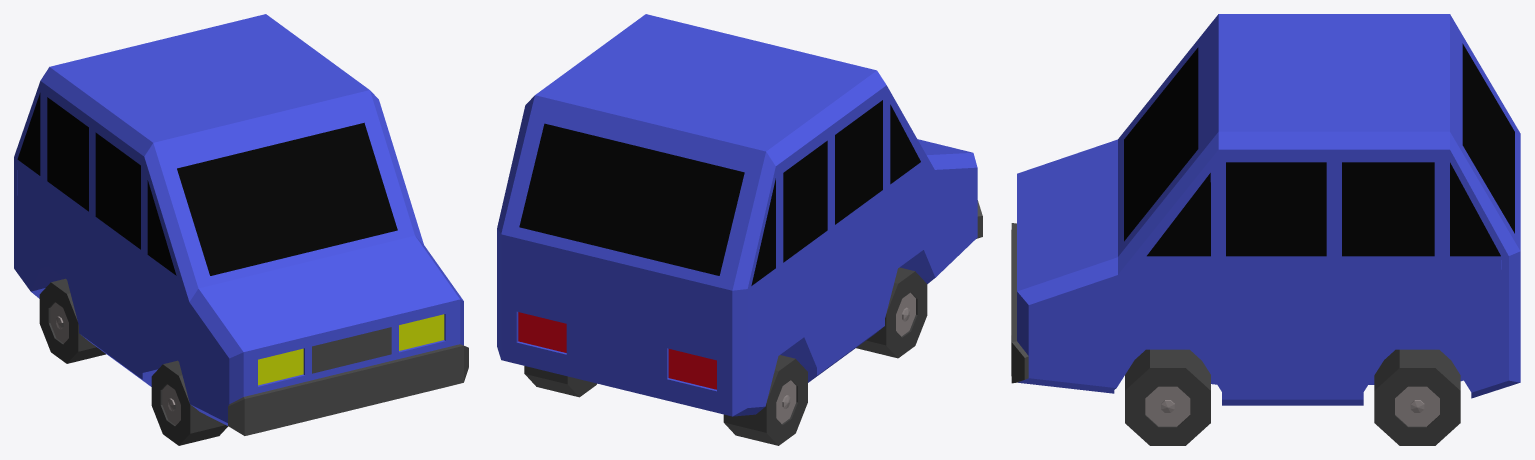
File: Car.fbx
3 renders of one model, left to right at view 1: azimuth 30°, elevation 25°; view 2: azimuth 150°, elevation 25°; view 3: azimuth 270°, elevation 25°, orthographic. The views are drawn at different scales.
Parts seen in each view (by area): view 1: Car, WheelsFront, WheelsBack; view 2: Car, WheelsBack, WheelsFront; view 3: Car, WheelsBack, WheelsFront.
Part boxes in pixels (x1,y1,x2,y2): Car: [14, 14, 468, 435]; WheelsFront: [151, 360, 227, 445]; WheelsBack: [39, 278, 105, 363]; Car: [497, 14, 982, 416]; WheelsBack: [524, 355, 807, 445]; WheelsFront: [856, 267, 927, 358]; Car: [1011, 14, 1520, 405]; WheelsBack: [1374, 349, 1460, 445]; WheelsFront: [1125, 349, 1210, 445].
Size of the model in its own units: 160 by 177 by 263.
